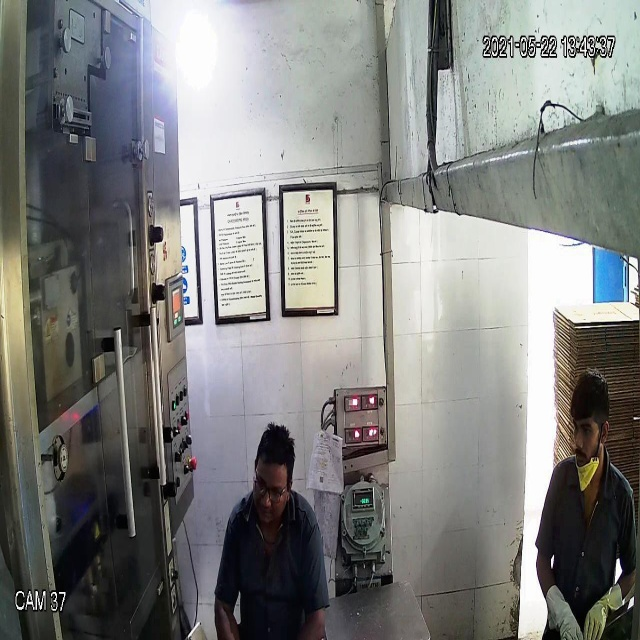Gafas: (249, 468, 290, 508)
Sin_gafas: (567, 413, 606, 448)
